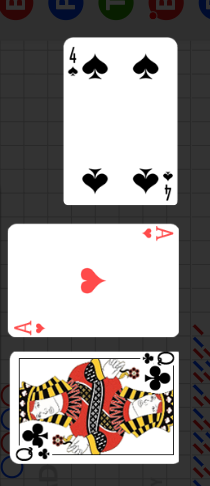4S: (162, 168, 175, 202), (67, 45, 80, 79)
QC: (132, 353, 179, 397), (12, 420, 58, 464)
